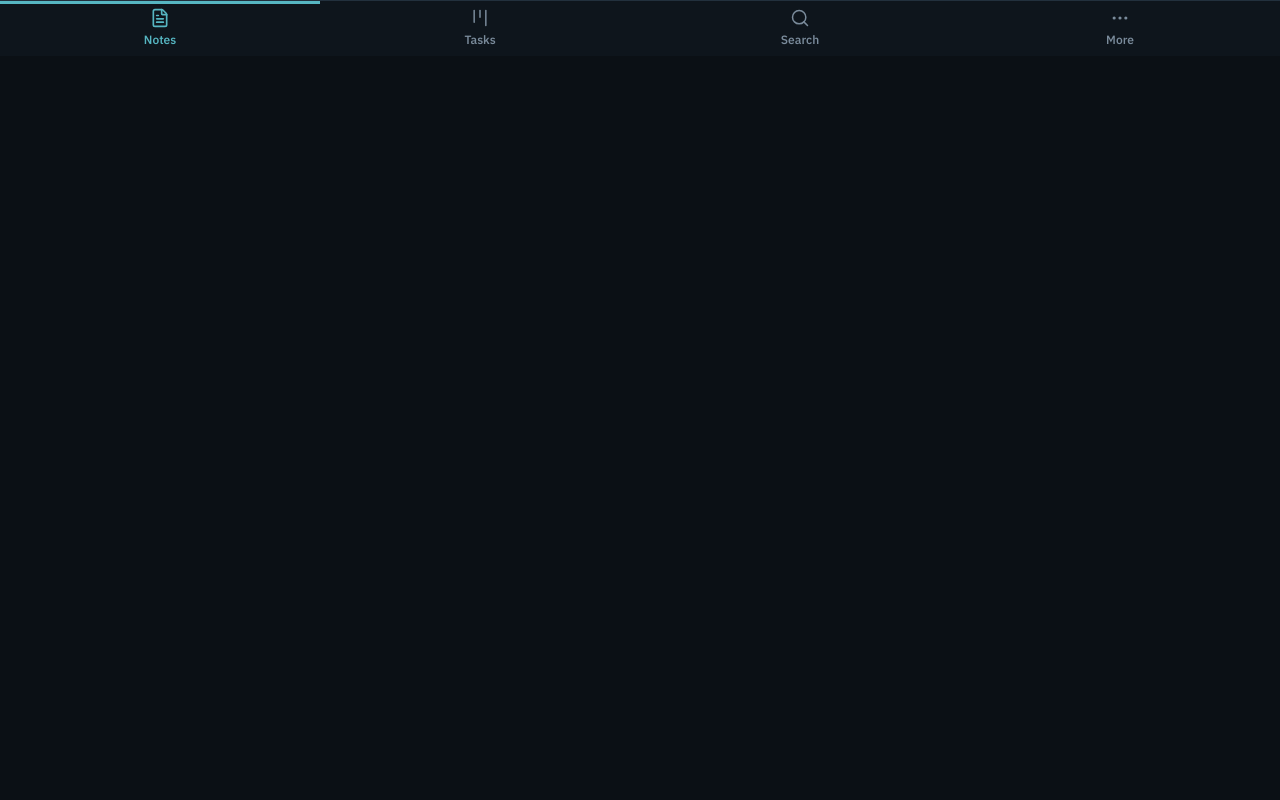
Test case: MobileTabBar › opens the More sheet without navigating
expect the text "Log out" is not shown: met
Click the button "More" at [1120, 28], box left=960, top=1, right=1279, bottom=56
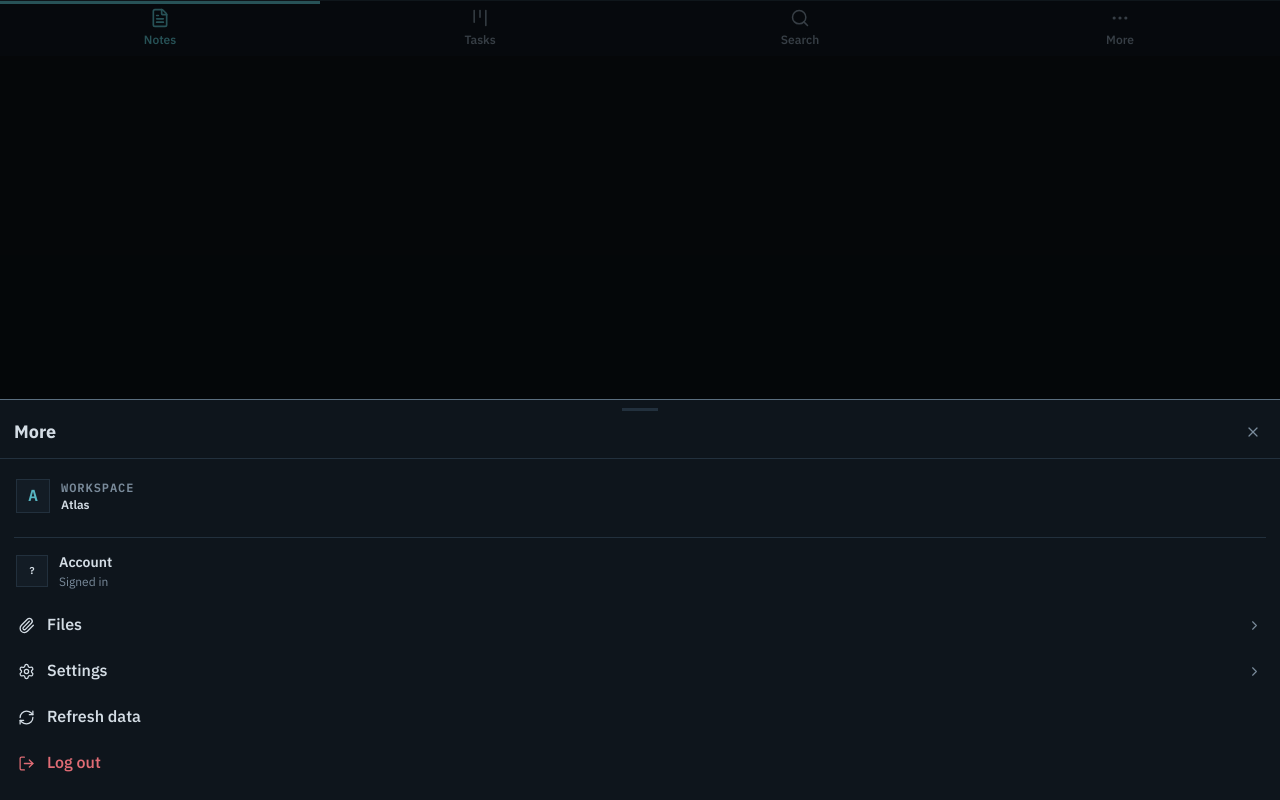
expect the text "Log out" is shown: met, box left=47, top=752, right=101, bottom=772
expect the text "Settings" is shown: met, box left=47, top=660, right=108, bottom=680
